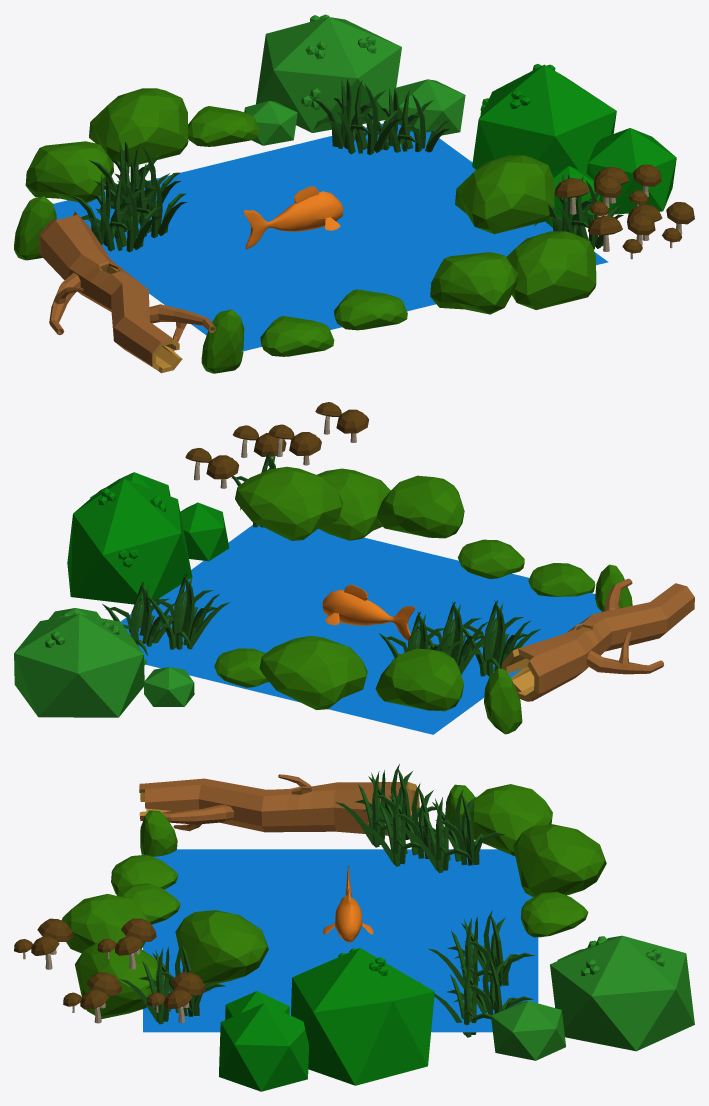
File: fishyyness.gltf
3 renders of one model, top to bottom at view 1: azimuth 30°, elevation 25°; view 2: azimuth 150°, elevation 25°; view 3: azimuth 270°, elevation 25°, orthographic. The views are drawn at different scales.
Visible parts, largest first — view 1: Plane.002, Icosphere.011, Icosphere.010, Circle.040, Icosphere.017, Icosphere.005, Icosphere.014, Icosphere.015, Icosphere.004, Cube.080, Cube.081, fish low poly.003 (+15 smaller); view 2: Plane.002, Icosphere.010, Icosphere.011, Circle.040, Icosphere.005, Icosphere.017, Icosphere.004, Icosphere.015, Icosphere.014, Cube.080, fish low poly.003, Cube.081 (+12 smaller); view 3: Plane.002, Icosphere.010, Icosphere.011, Circle.040, Icosphere.005, Icosphere.017, Icosphere.004, Icosphere.014, Icosphere.015, Cube.083, Cube.082, Cube.080 (+17 smaller).
Boxes of the visible parts, left/top/right/bottom form: Plane.002: left=53, top=123, right=608, bottom=351; Icosphere.011: left=244, top=14, right=465, bottom=145; Icosphere.010: left=472, top=64, right=676, bottom=227; Circle.040: left=39, top=211, right=215, bottom=373; Icosphere.017: left=455, top=155, right=554, bottom=234; Icosphere.005: left=89, top=88, right=188, bottom=166; Icosphere.014: left=506, top=231, right=596, bottom=309; Icosphere.015: left=430, top=252, right=518, bottom=314; Icosphere.004: left=25, top=141, right=113, bottom=203; Cube.080: left=311, top=78, right=402, bottom=155; Cube.081: left=70, top=175, right=162, bottom=252; fish low poly.003: left=243, top=186, right=343, bottom=249; Plane.002: left=120, top=525, right=601, bottom=734; Icosphere.010: left=67, top=472, right=229, bottom=604; Icosphere.011: left=14, top=608, right=194, bottom=717; Circle.040: left=502, top=578, right=694, bottom=701; Icosphere.005: left=259, top=636, right=367, bottom=709; Icosphere.017: left=235, top=466, right=342, bottom=540; Icosphere.004: left=375, top=648, right=463, bottom=711; Icosphere.015: left=377, top=475, right=464, bottom=538; Icosphere.014: left=317, top=468, right=390, bottom=540; Cube.080: left=145, top=573, right=230, bottom=649; fish low poly.003: left=322, top=584, right=415, bottom=640; Cube.081: left=462, top=600, right=540, bottom=676; Plane.002: left=143, top=849, right=538, bottom=1032; Icosphere.010: left=219, top=948, right=434, bottom=1091; Icosphere.011: left=491, top=935, right=694, bottom=1060; Circle.040: left=139, top=774, right=419, bottom=835; Icosphere.005: left=513, top=824, right=606, bottom=897; Icosphere.017: left=175, top=910, right=268, bottom=985; Icosphere.004: left=461, top=784, right=552, bottom=856; Icosphere.014: left=75, top=942, right=164, bottom=1019; Icosphere.015: left=61, top=894, right=149, bottom=953; Cube.083: left=399, top=789, right=505, bottom=873; Cube.082: left=356, top=783, right=462, bottom=866; Cube.080: left=428, top=910, right=534, bottom=991.
Bounding box in the file's own units: 9.35 × 1.87 × 9.06.
